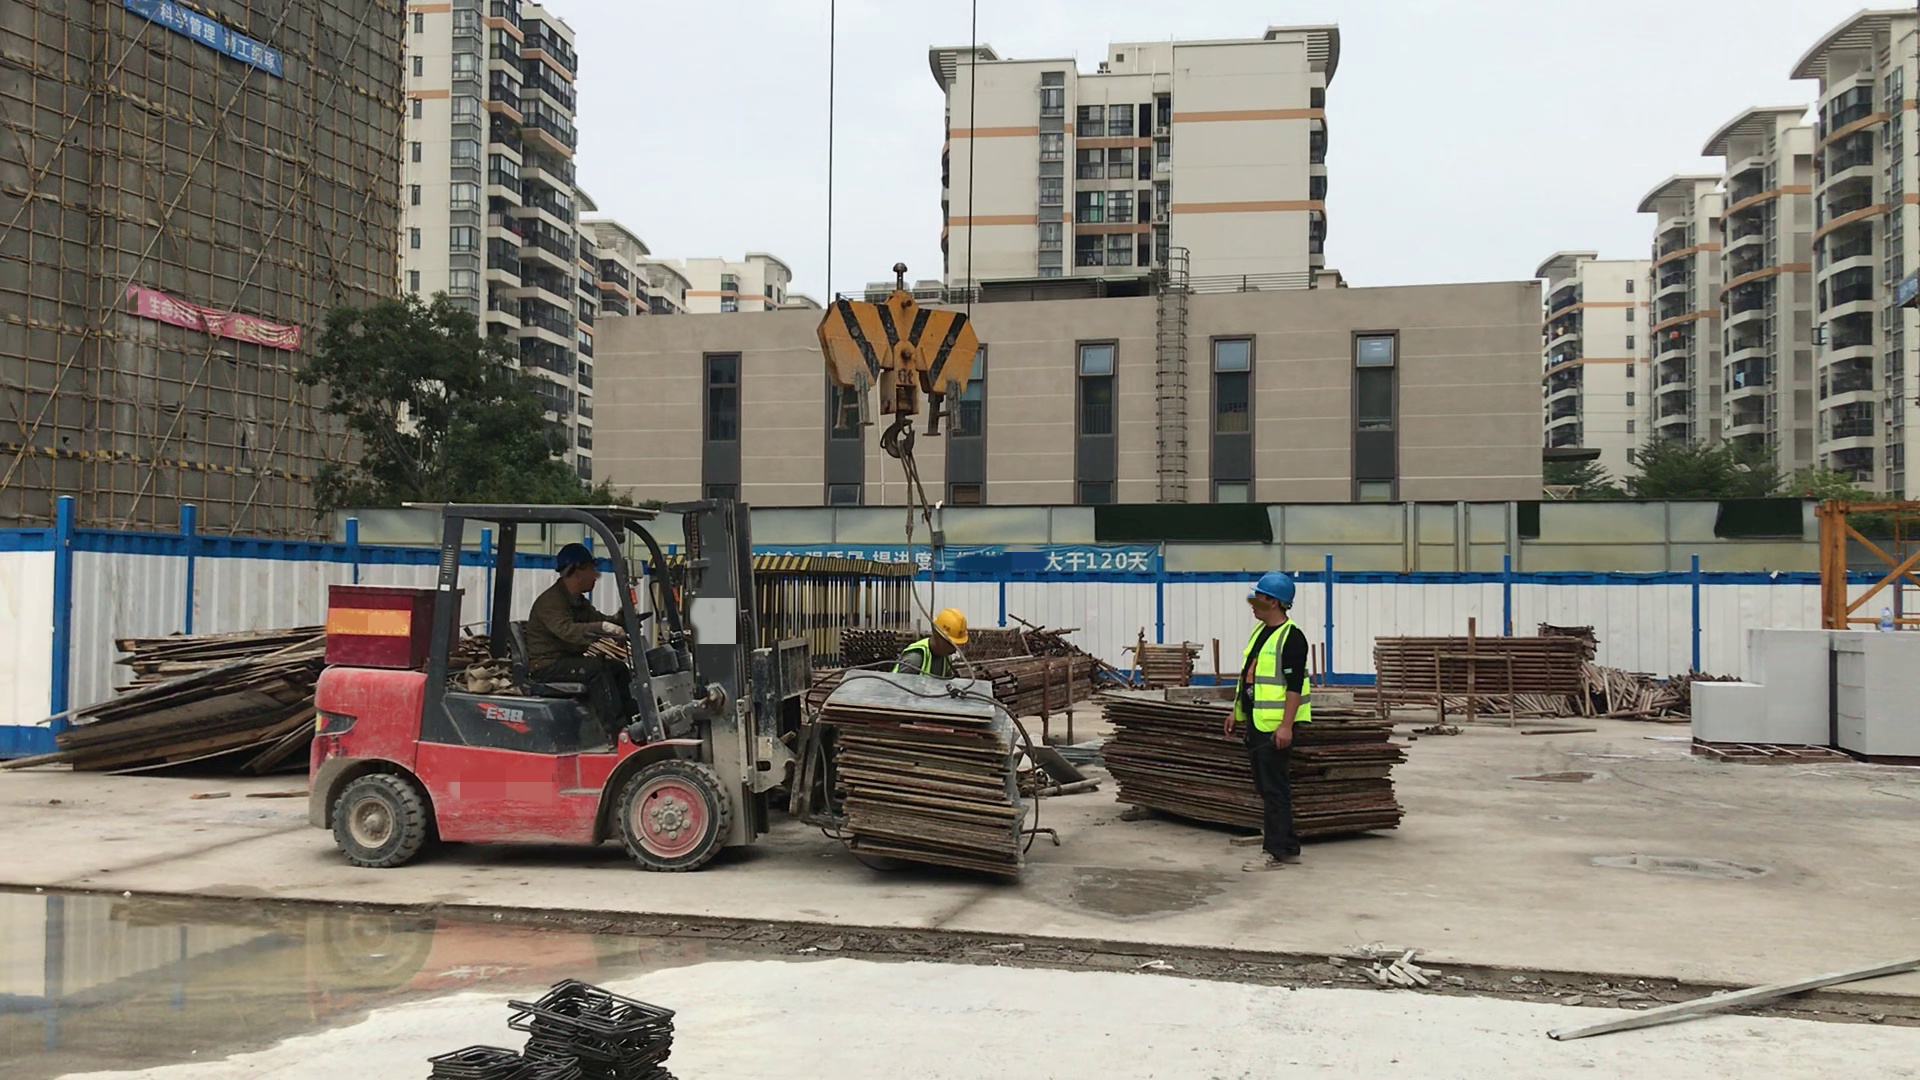board: (810, 658, 1034, 882), (46, 617, 310, 780), (1092, 680, 1233, 854), (1312, 686, 1416, 844)
brick: (1687, 622, 1838, 748), (1838, 630, 1920, 760)
helmet: (1251, 570, 1297, 609), (930, 608, 968, 646), (554, 543, 591, 578)
hook: (813, 261, 977, 460)
person: (1226, 570, 1310, 874), (524, 541, 638, 748), (886, 606, 970, 677)
scaffold: (1372, 631, 1585, 695), (1123, 642, 1204, 682)
slogan: (128, 285, 299, 354), (126, 1, 277, 76), (933, 550, 1151, 580)
vest: (1233, 619, 1312, 732), (895, 639, 933, 677)
